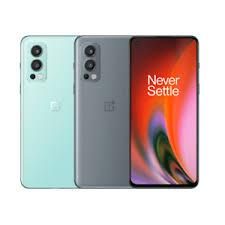Smartphone: (134, 33, 197, 189), (19, 39, 77, 189), (78, 36, 133, 189)
